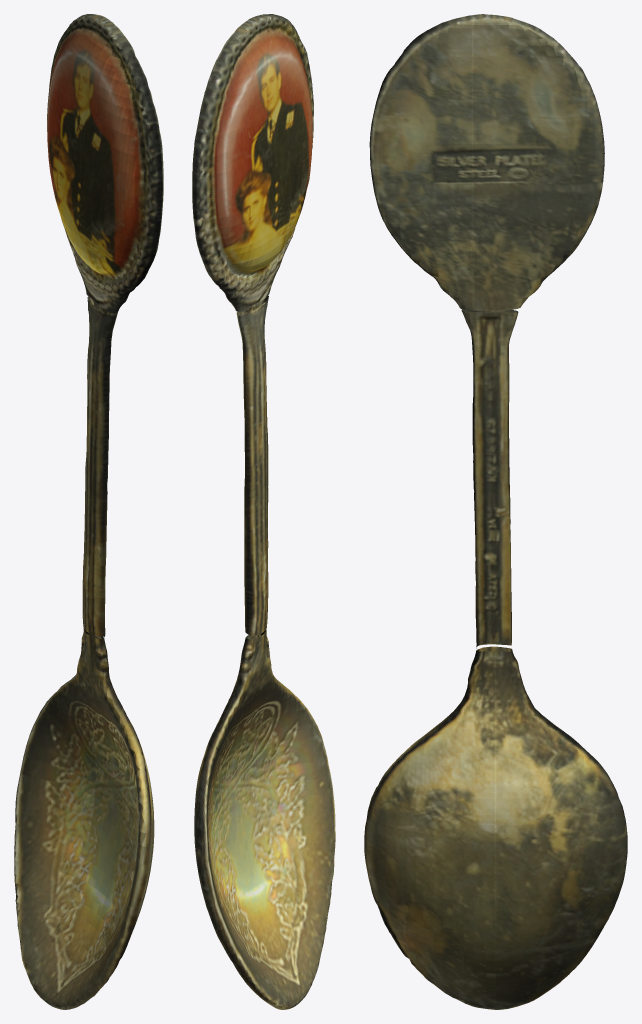
File: spoonLowPoly.obj
3 renders of one model, left to right at view 1: azimuth 30°, elevation 25°; view 2: azimuth 150°, elevation 25°; view 3: azimuth 270°, elevation 25°, orthographic. The views are drawn at different scales.
Parts seen in each view (by area): view 1: Spoon2:Group2, Spoon2:Group5800, Spoon2:Group10604; view 2: Spoon2:Group2, Spoon2:Group5800, Spoon2:Group10604; view 3: Spoon2:Group2, Spoon2:Group5800, Spoon2:Group10604.
Boxes of the visible parts, box(x1,y1,x2,y2) form: Spoon2:Group2: box(14, 628, 154, 1009); Spoon2:Group5800: box(47, 14, 163, 313); Spoon2:Group10604: box(82, 297, 117, 637); Spoon2:Group2: box(194, 629, 335, 1009); Spoon2:Group5800: box(192, 14, 313, 311); Spoon2:Group10604: box(236, 295, 268, 636); Spoon2:Group2: box(364, 646, 627, 1009); Spoon2:Group5800: box(369, 14, 604, 310); Spoon2:Group10604: box(461, 309, 518, 648).
Size of the model in its own units: 4.4 by 51.66 by 12.11.
1 material, 1 textured.
